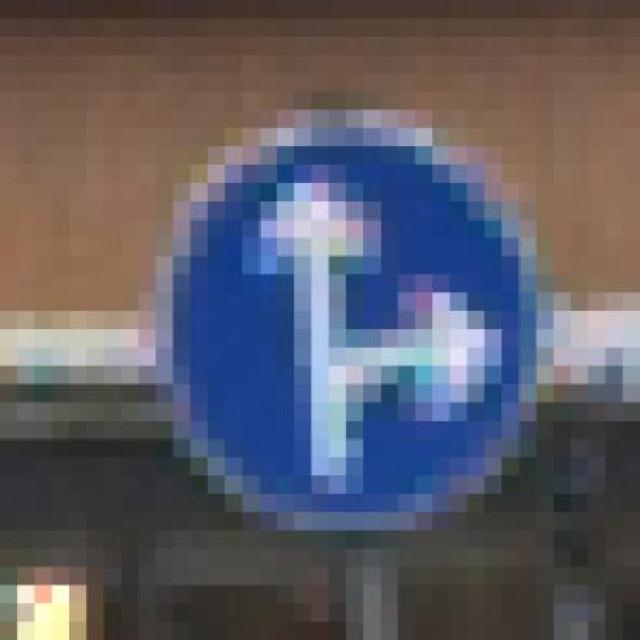Go Straight or Turn Right: (120, 91, 572, 548)
